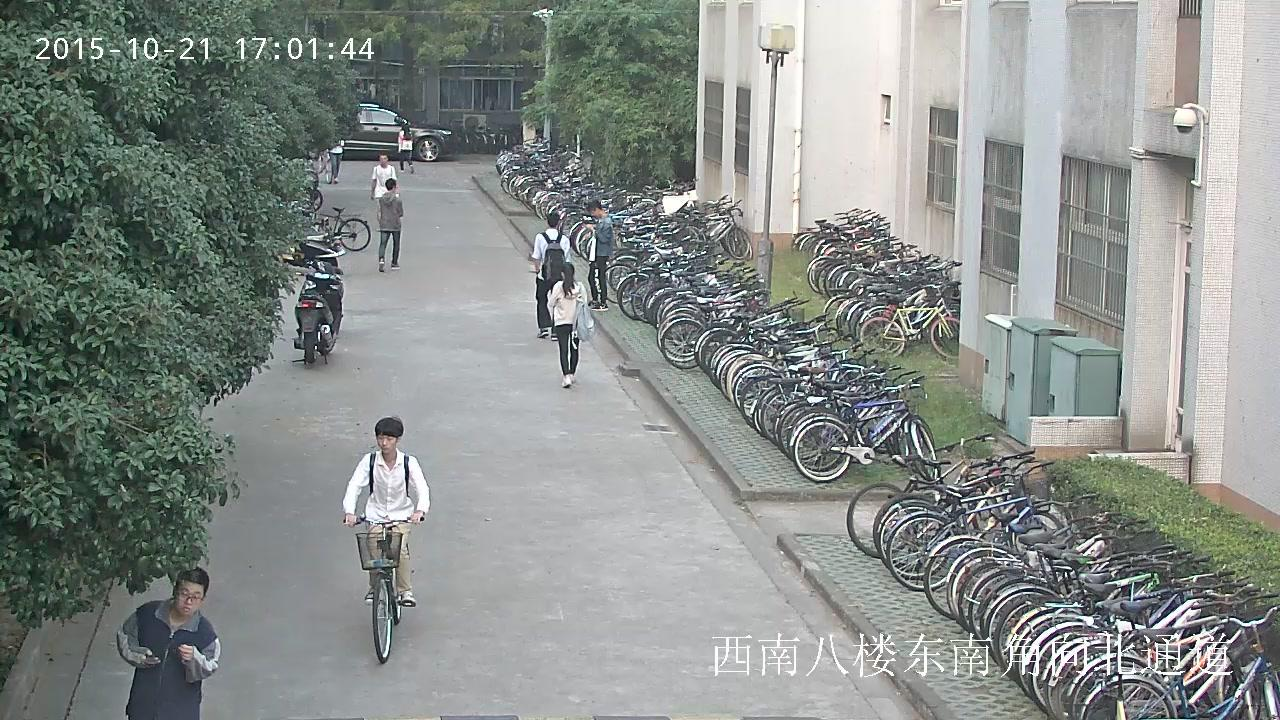face: (176, 579, 202, 616), (377, 435, 396, 453), (380, 155, 386, 164), (591, 211, 599, 217), (392, 184, 396, 190)
